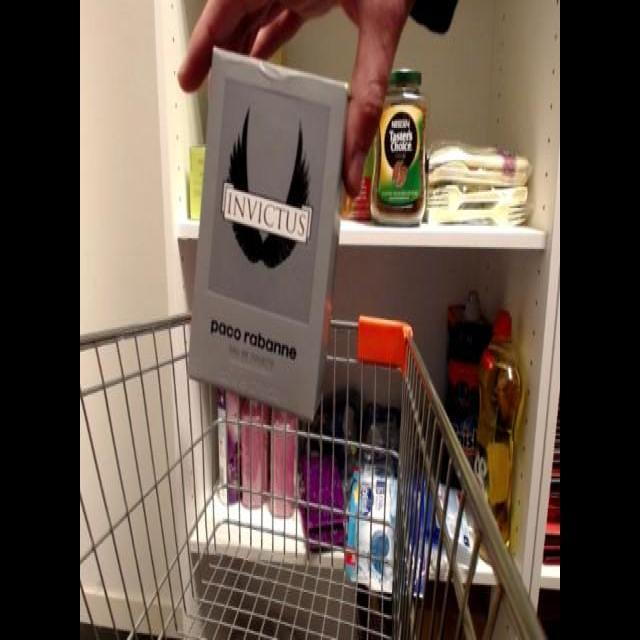Paco Rabanne: (182, 46, 358, 428)
